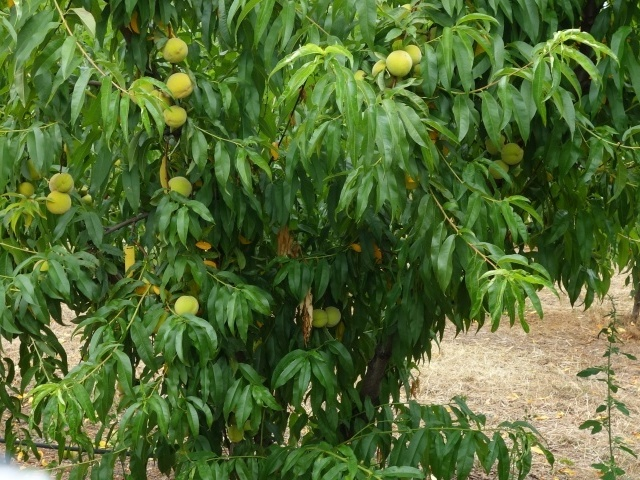peach: (384, 48, 416, 80), (45, 169, 77, 200), (160, 37, 191, 68), (163, 71, 193, 100), (171, 293, 201, 321), (367, 59, 397, 87), (165, 175, 194, 203), (43, 188, 71, 217), (161, 103, 188, 130), (500, 141, 527, 167), (488, 155, 513, 181), (148, 87, 173, 110), (482, 133, 504, 158), (310, 306, 330, 330), (325, 301, 343, 327), (401, 42, 422, 64), (225, 425, 247, 446), (29, 256, 52, 276), (16, 178, 35, 200)
